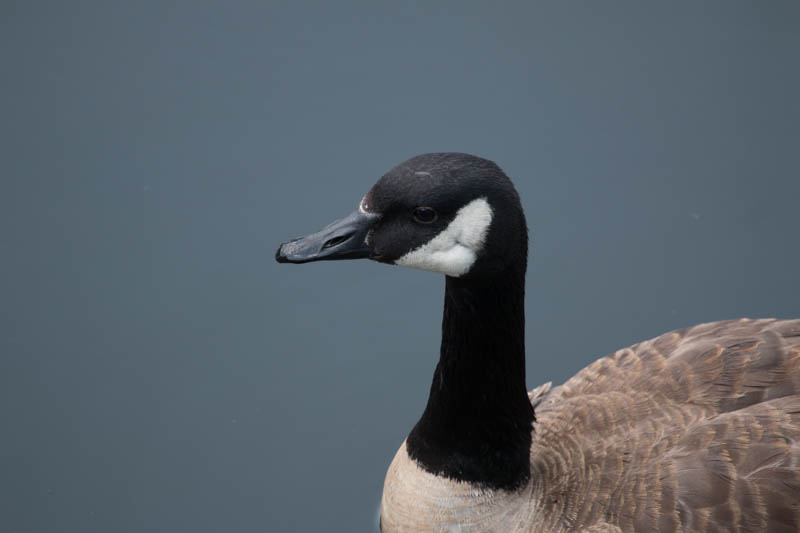goose-head: (274, 151, 528, 276)
